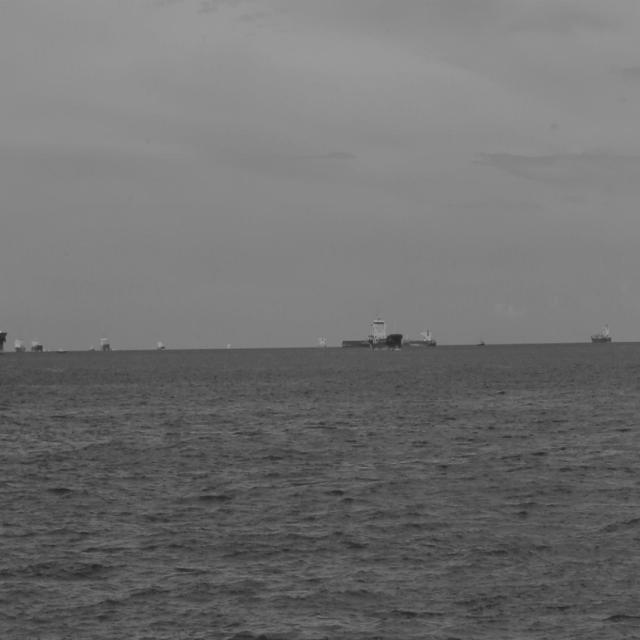ship: (338, 317, 402, 355), (341, 316, 404, 351), (403, 329, 438, 346), (592, 320, 614, 344), (592, 324, 613, 346), (27, 336, 45, 356), (99, 334, 112, 354), (12, 337, 24, 355), (1, 325, 7, 354), (156, 336, 166, 352)
